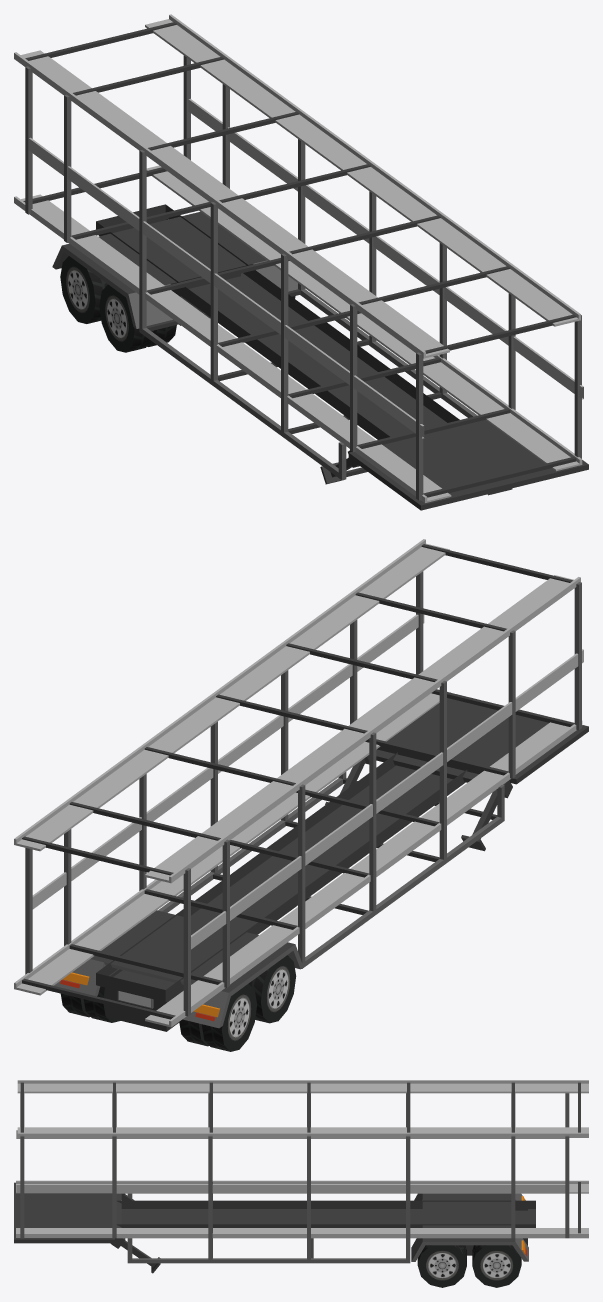
Rendered from TruckTrailerB.fbx.
3 renders of one model, top to bottom at view 1: azimuth 30°, elevation 25°; view 2: azimuth 150°, elevation 25°; view 3: azimuth 270°, elevation 25°, orthographic. The views are drawn at different scales.
Visible parts, largest first — view 1: TruckTrailerB, TireRX, TireRY; view 2: TruckTrailerB, TireRY, TireRX, TruckTrailerPivots, TireLY; view 3: TruckTrailerB, TireLX, TireLY, TruckTrailerPivots.
Boxes of the visible parts, x1,y1,x2,y2 form: TruckTrailerB: [14, 14, 588, 510]; TireRX: [99, 284, 176, 352]; TireRY: [60, 256, 107, 323]; TruckTrailerB: [14, 539, 588, 1031]; TireRY: [179, 983, 256, 1051]; TireRX: [248, 955, 296, 1023]; TruckTrailerPivots: [325, 749, 512, 851]; TireLY: [60, 986, 120, 1022]; TruckTrailerB: [14, 1080, 588, 1263]; TireLX: [417, 1245, 466, 1287]; TireLY: [472, 1245, 521, 1287]; TruckTrailerPivots: [110, 1193, 160, 1273].
Bounding box in the file's own units: 233 × 293 × 992.
